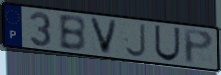3: (29, 11, 53, 49)
B: (57, 14, 87, 53)
J: (124, 22, 148, 59)
P: (182, 28, 216, 67)
U: (154, 24, 182, 62)
V: (88, 16, 120, 57)
